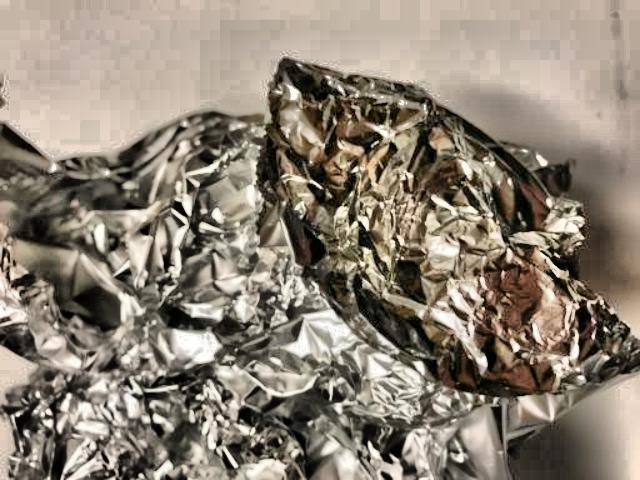Almennt: (0, 53, 640, 480)
